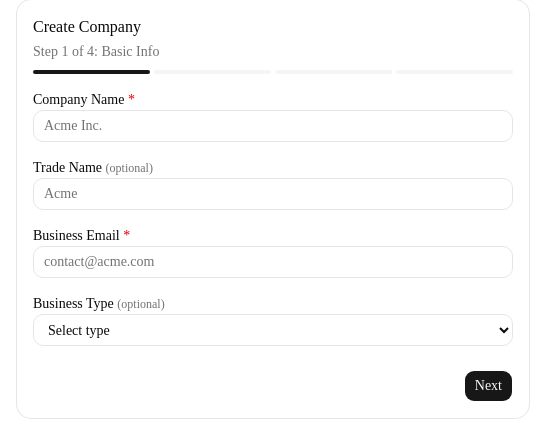
Scenario: T084 — CompanyCreateWizard › advances to step 2 after valid step 1 data
In the field labelled "Company Name *": (273, 126) [33,110,513,142], type "Acme Inc"
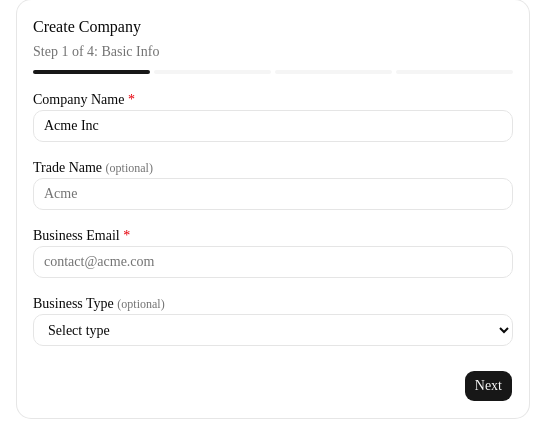
In the field labelled "Business Email *": (273, 262) [33,246,513,278], type "test@acme.com"
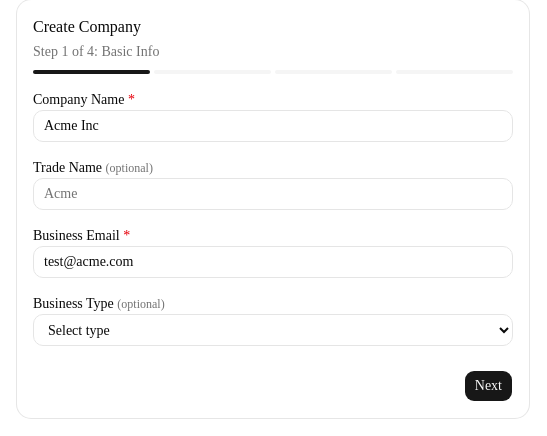
Click the button "Next": (488, 386) [464,370,513,402]
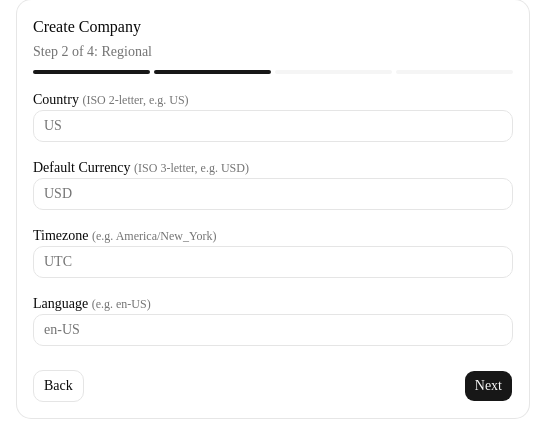
Expected: the field labelled "Default Currency (ISO 3-letter, e.g. USD)" is shown, [33,178,513,210]
